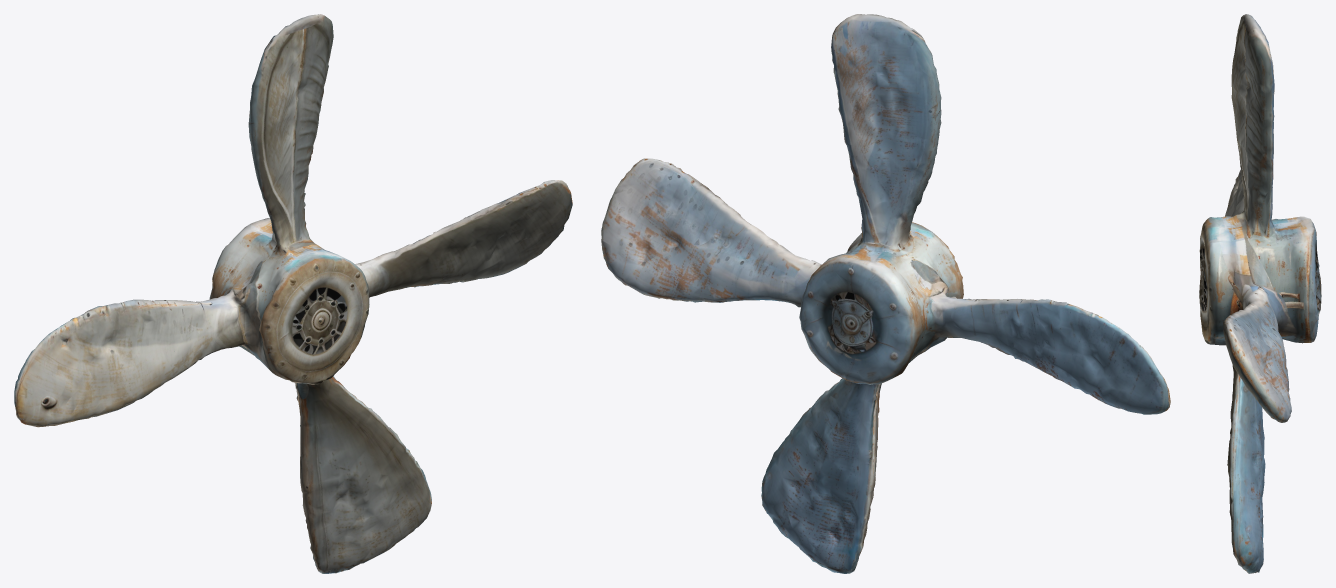
The model's file is boatprop-686a-40cf-971f-895213eba5e9.glb.
3 views of the same model, side by side, from view 1: azimuth 30°, elevation 25°; view 2: azimuth 150°, elevation 25°; view 3: azimuth 270°, elevation 25° (orthographic). The views are drawn at different scales.
Bounding box in the file's own units: 1.2 × 1.16 × 0.2429.
1 material, 1 textured.
